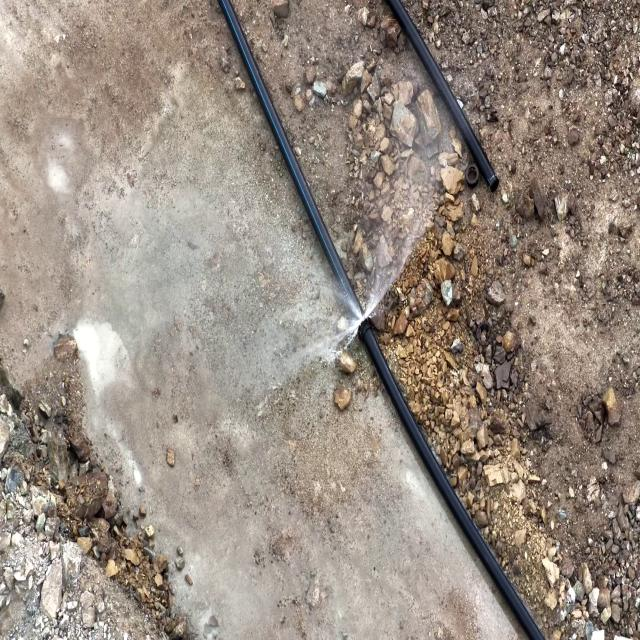leak: (280, 211, 432, 377)
